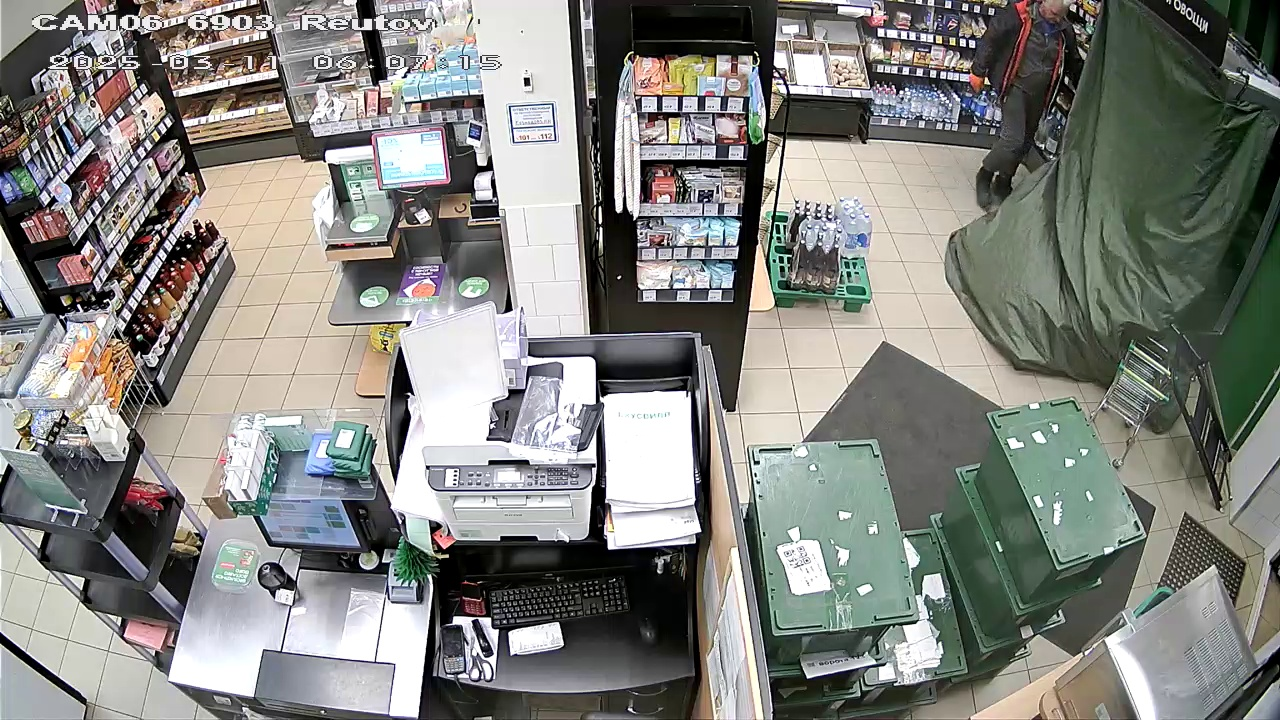Human: (971, 1, 1076, 207)
dome: (921, 6, 1275, 382)
